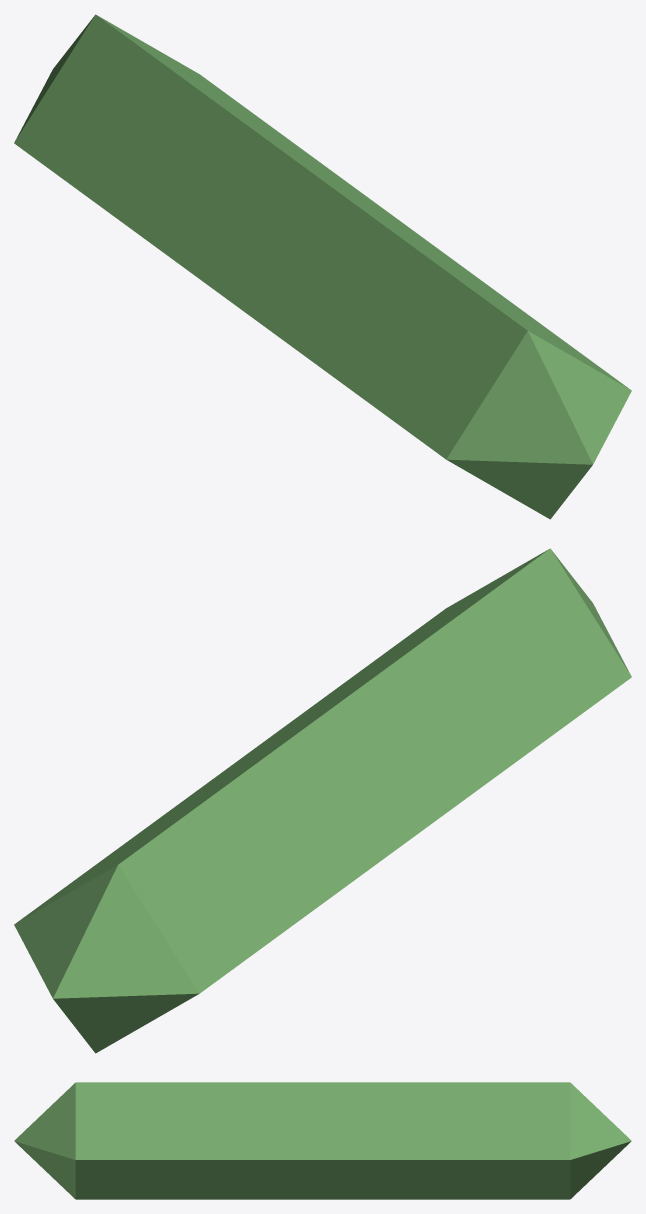
File: Bacteria_tongue01.fbx
The picture shows the model from 3 angles, top to bottom: view 1: azimuth 30°, elevation 25°; view 2: azimuth 150°, elevation 25°; view 3: azimuth 270°, elevation 25°; orthographic projection. The views are drawn at different scales.
Parts seen in each view (by area): view 1: Bacteria_tongue01; view 2: Bacteria_tongue01; view 3: Bacteria_tongue01.
Boxes of the visible parts, <box> form: Bacteria_tongue01: <box>14,14,631,519</box>; Bacteria_tongue01: <box>14,548,631,1053</box>; Bacteria_tongue01: <box>14,1082,631,1199</box>.
Bounding box in the file's own units: 0.5647 × 0.5647 × 2.84.
